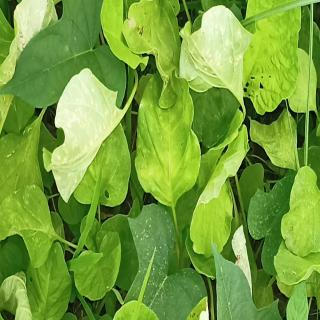karat_putih: (42, 64, 124, 202), (177, 1, 256, 110), (0, 0, 59, 90), (281, 164, 320, 255)
virus_keriting: (243, 0, 304, 117)
